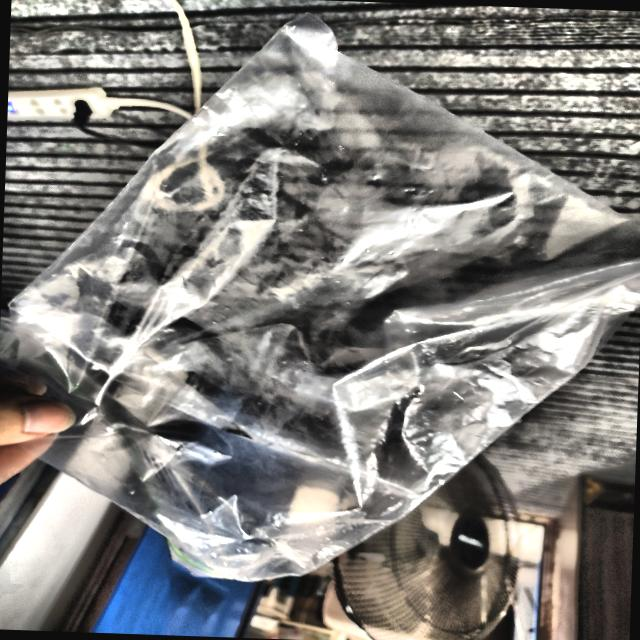plastic bag: (2, 16, 640, 580)
